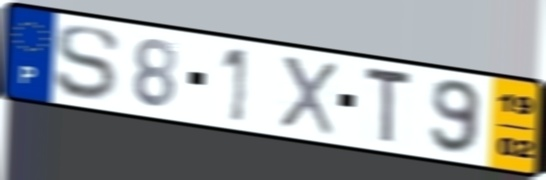1: (218, 46, 250, 125)
8: (131, 36, 180, 110)
9: (428, 78, 485, 157)
S: (52, 24, 122, 102)
T: (363, 63, 415, 147)
X: (276, 52, 339, 139)
